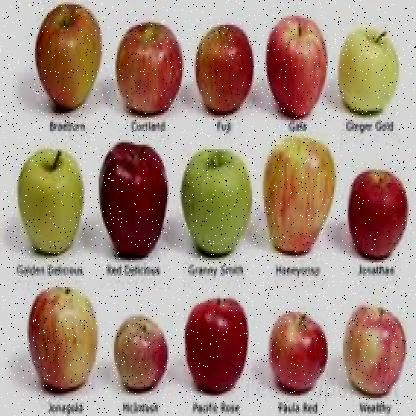apple: (261, 136, 334, 258), (111, 16, 184, 120), (94, 147, 164, 253), (30, 0, 100, 102), (180, 149, 247, 251), (28, 292, 96, 392), (16, 150, 76, 256), (343, 163, 409, 258), (267, 13, 325, 118), (184, 296, 246, 391), (344, 303, 404, 391), (337, 29, 399, 113), (196, 23, 249, 118), (113, 312, 168, 394), (267, 314, 325, 391)
